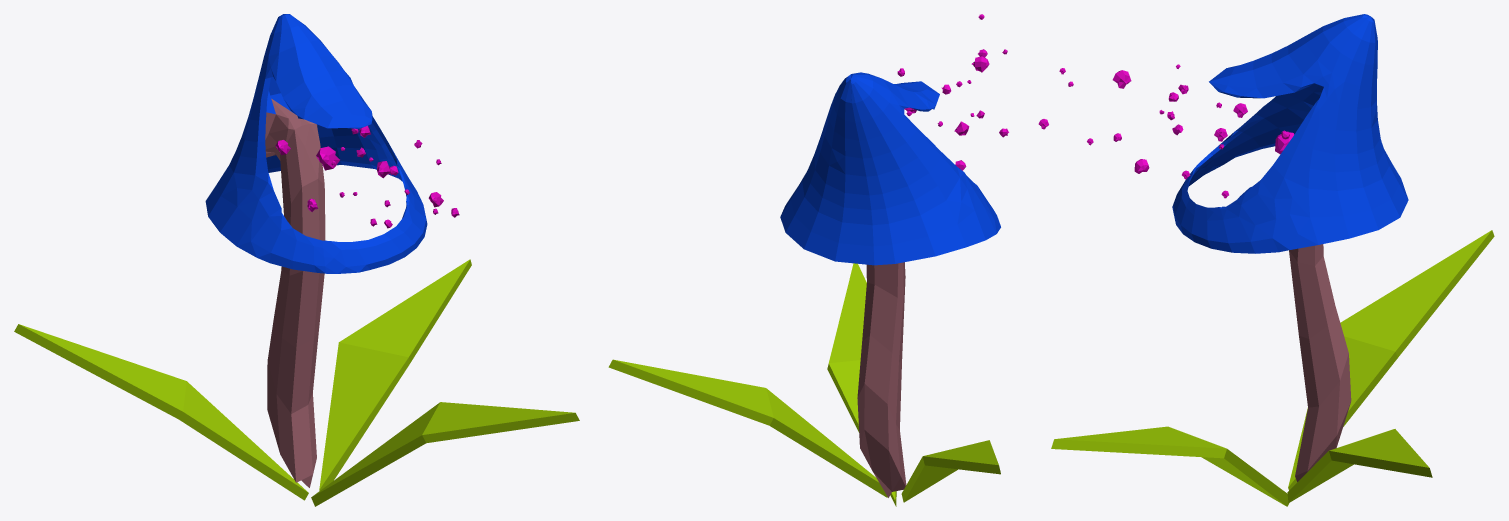
File: plant_04_sporenpilz_state00.gltf
3 renders of one model, left to right at view 1: azimuth 30°, elevation 25°; view 2: azimuth 150°, elevation 25°; view 3: azimuth 270°, elevation 25°, orthographic. The views are drawn at different scales.
Parts seen in each view (by area): view 1: Plane, Sphere.001; view 2: Plane, Sphere.001; view 3: Plane, Sphere.001.
Part boxes in pixels (x1=…): Plane: x1=14, y1=14, x2=579, y2=506; Sphere.001: x1=275, y1=125, x2=459, y2=228; Plane: x1=608, y1=72, x2=1000, y2=506; Sphere.001: x1=897, y1=14, x2=1008, y2=170; Plane: x1=1051, y1=14, x2=1494, y2=506; Sphere.001: x1=1038, y1=64, x2=1294, y2=198.
Size of the model in its own units: 0.1979 by 0.2048 by 0.1708.
